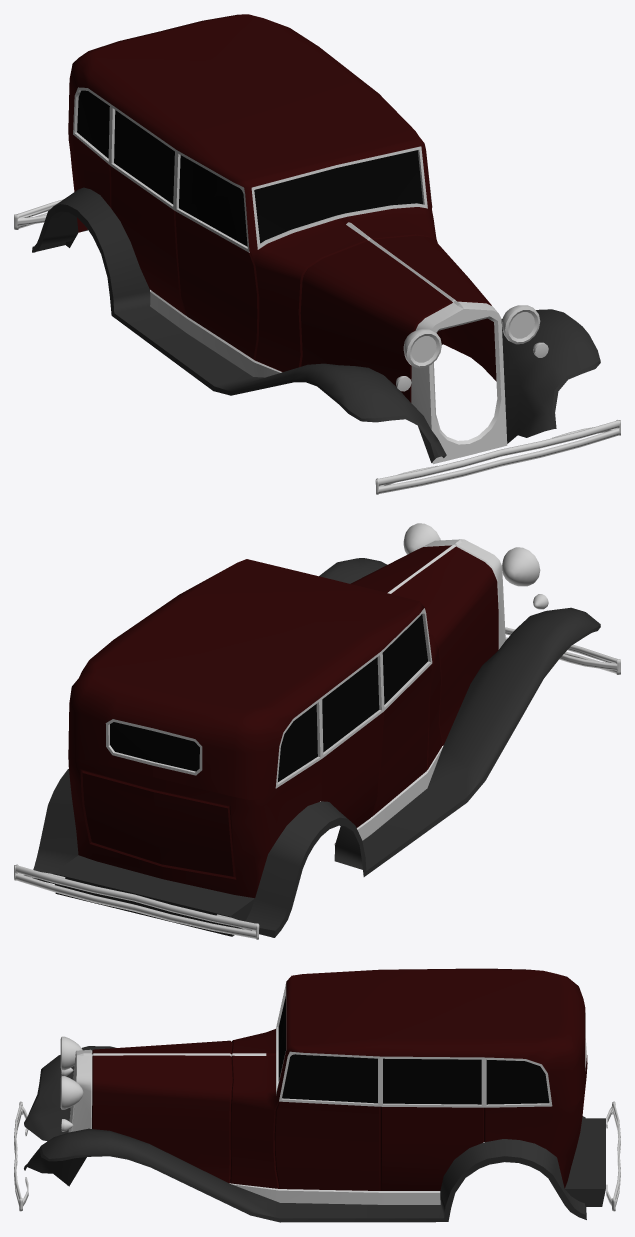
The model's file is cabernet_syndicate.fbx.
The picture shows the model from 3 angles, top to bottom: view 1: azimuth 30°, elevation 25°; view 2: azimuth 150°, elevation 25°; view 3: azimuth 270°, elevation 25°; orthographic projection. The views are drawn at different scales.
Visible parts, largest first — view 1: Body_paintable, Details, Hood_paintable, Chrome, Windows, FrontDoors_paintable, RearDoors_paintable; view 2: Body_paintable, Details, Chrome, Hood_paintable, Trunk_paintable, Windows, FrontDoors_paintable, RearDoors_paintable; view 3: Body_paintable, Details, Hood_paintable, Windows, Chrome, FrontDoors_paintable, RearDoors_paintable.
Boxes of the visible parts, x1,y1,x2,y2 form: Body_paintable: (68, 14, 440, 372); Details: (32, 187, 600, 462); Hood_paintable: (300, 235, 496, 402); Chrome: (14, 87, 620, 494); Windows: (77, 90, 422, 246); FrontDoors_paintable: (175, 208, 431, 360); RearDoors_paintable: (110, 166, 186, 315); Body_paintable: (68, 559, 442, 898); Details: (33, 558, 600, 937); Chrome: (14, 523, 620, 939); Hood_paintable: (350, 545, 498, 745); Trunk_paintable: (82, 771, 235, 877); Windows: (110, 614, 427, 781); FrontDoors_paintable: (371, 664, 431, 816); RearDoors_paintable: (320, 713, 382, 843); Body_paintable: (230, 968, 587, 1188); Details: (24, 1046, 605, 1222); Hood_paintable: (92, 1040, 232, 1183); Windows: (278, 996, 549, 1104); Chrome: (14, 983, 620, 1211); FrontDoors_paintable: (274, 1101, 380, 1190); RearDoors_paintable: (380, 1106, 483, 1190).
Bounding box in the file's own units: 19.73 × 15.03 × 49.43.
